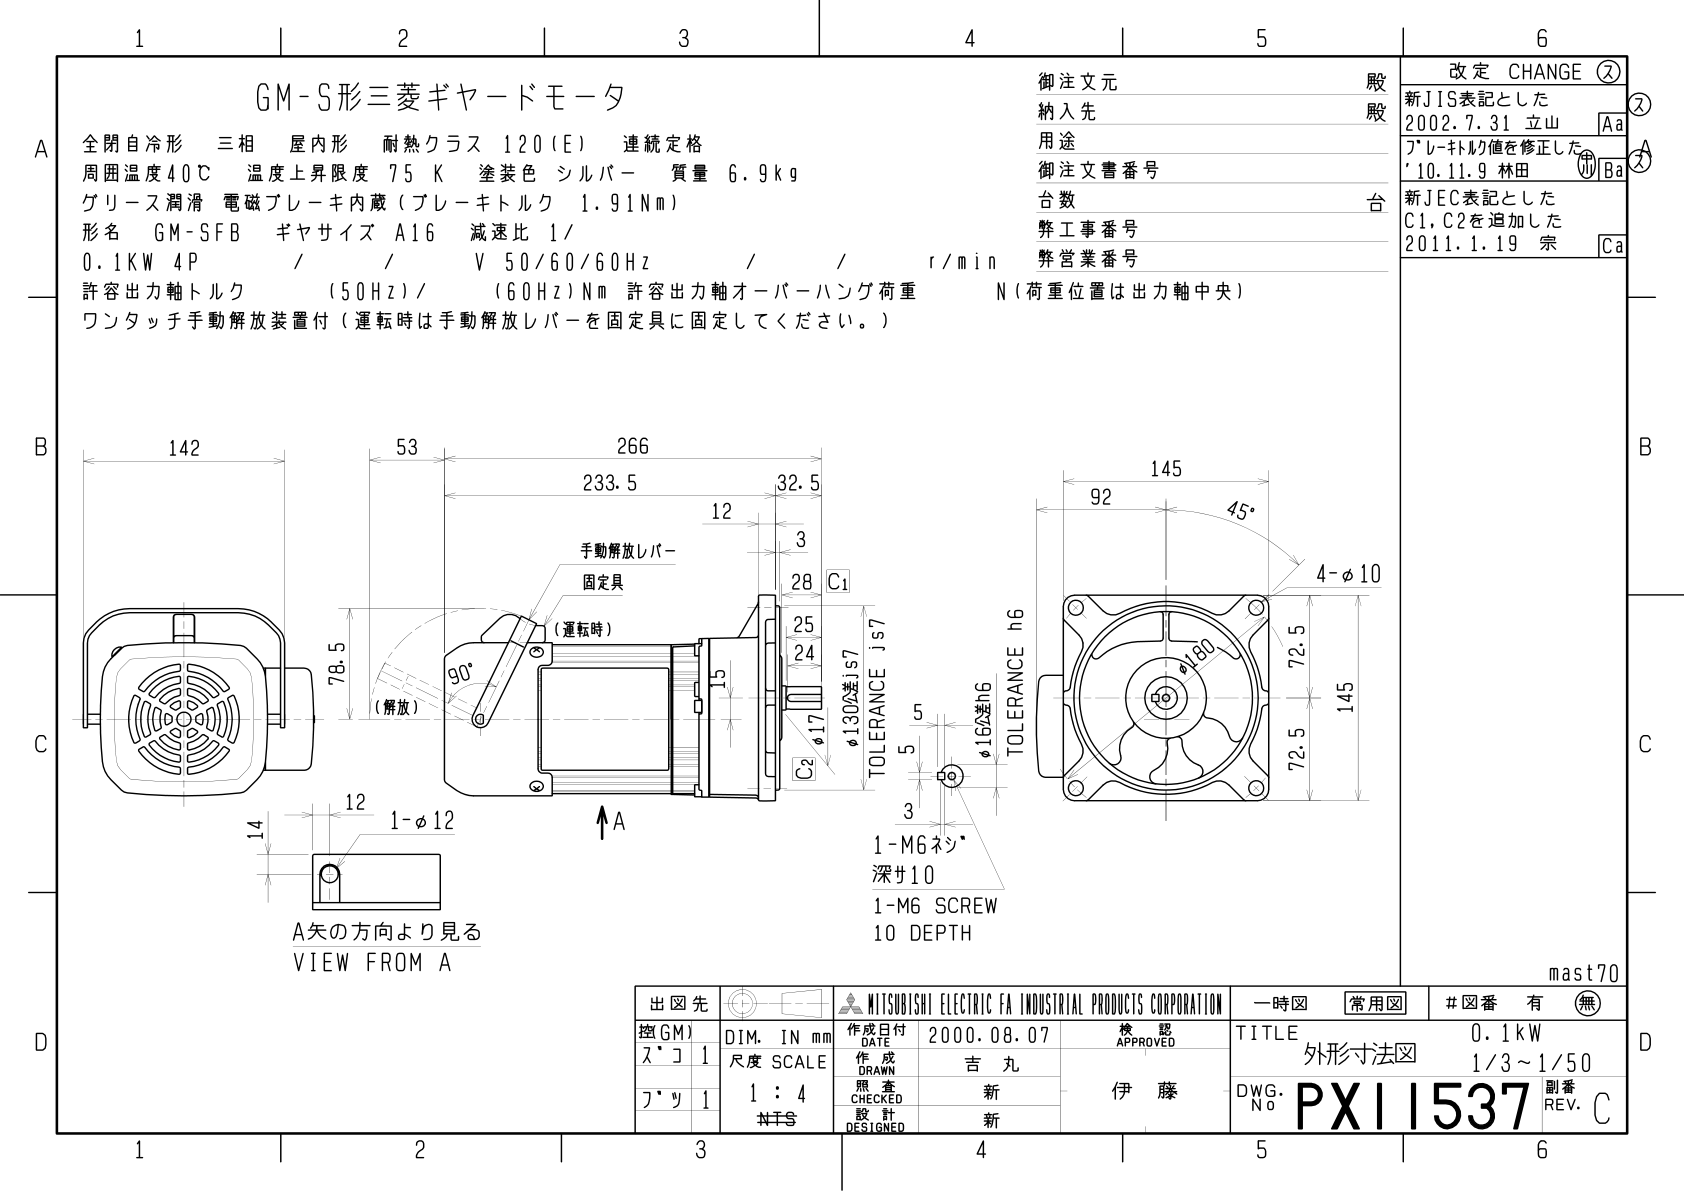GM_S_手動ブレーキ＿三相_フランジ: (70, 406, 1392, 980)
